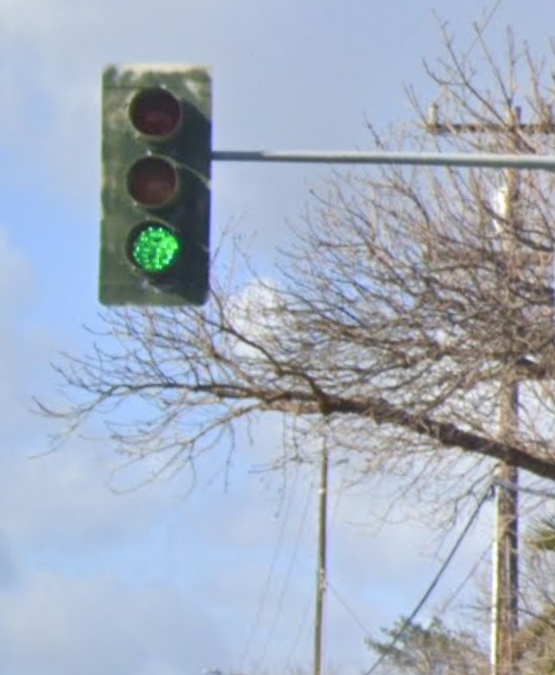green_light: (108, 71, 202, 297)
